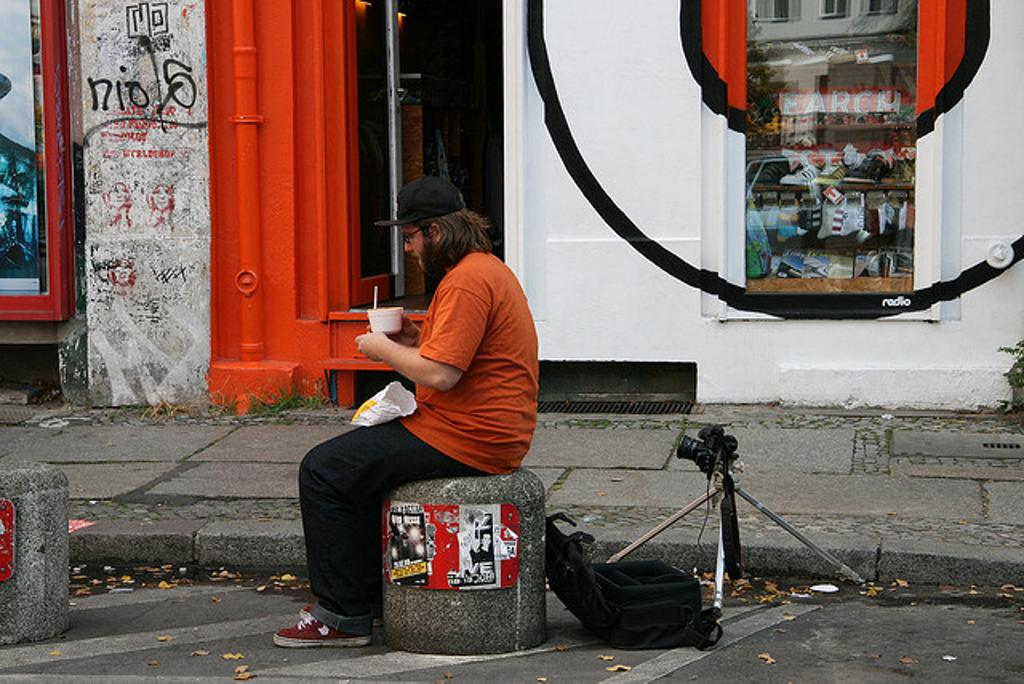face: (401, 221, 428, 272)
